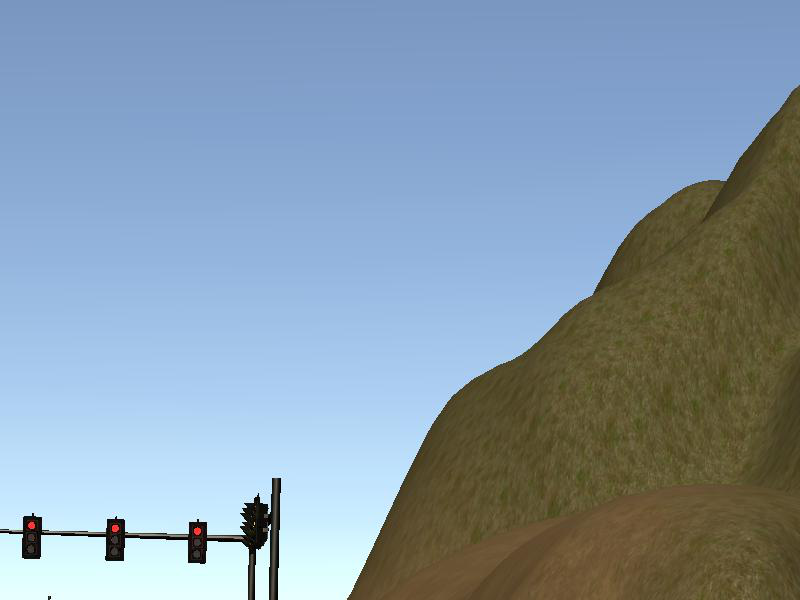red: (24, 514, 42, 559), (106, 520, 125, 562), (189, 521, 207, 562)
